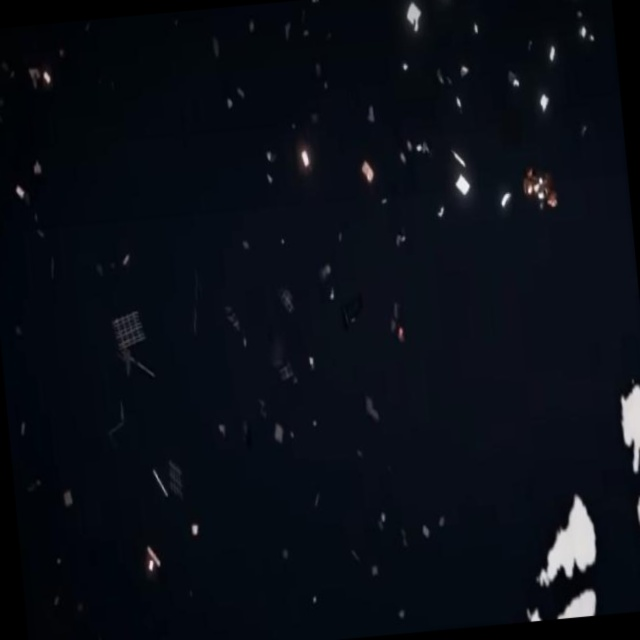large_debris: (0, 131, 52, 236), (100, 288, 150, 371), (23, 40, 65, 118), (521, 156, 563, 229), (352, 125, 383, 203), (131, 521, 163, 593), (378, 290, 411, 351), (449, 144, 478, 208), (399, 0, 432, 51), (400, 127, 431, 175), (149, 455, 176, 506), (292, 123, 315, 182), (528, 79, 553, 117), (280, 271, 298, 314), (456, 55, 473, 95), (493, 180, 514, 210)
